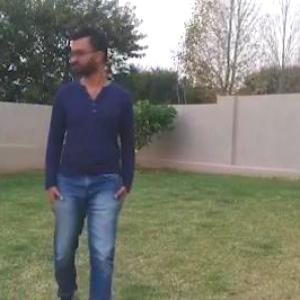follow: (36, 7, 144, 299)
